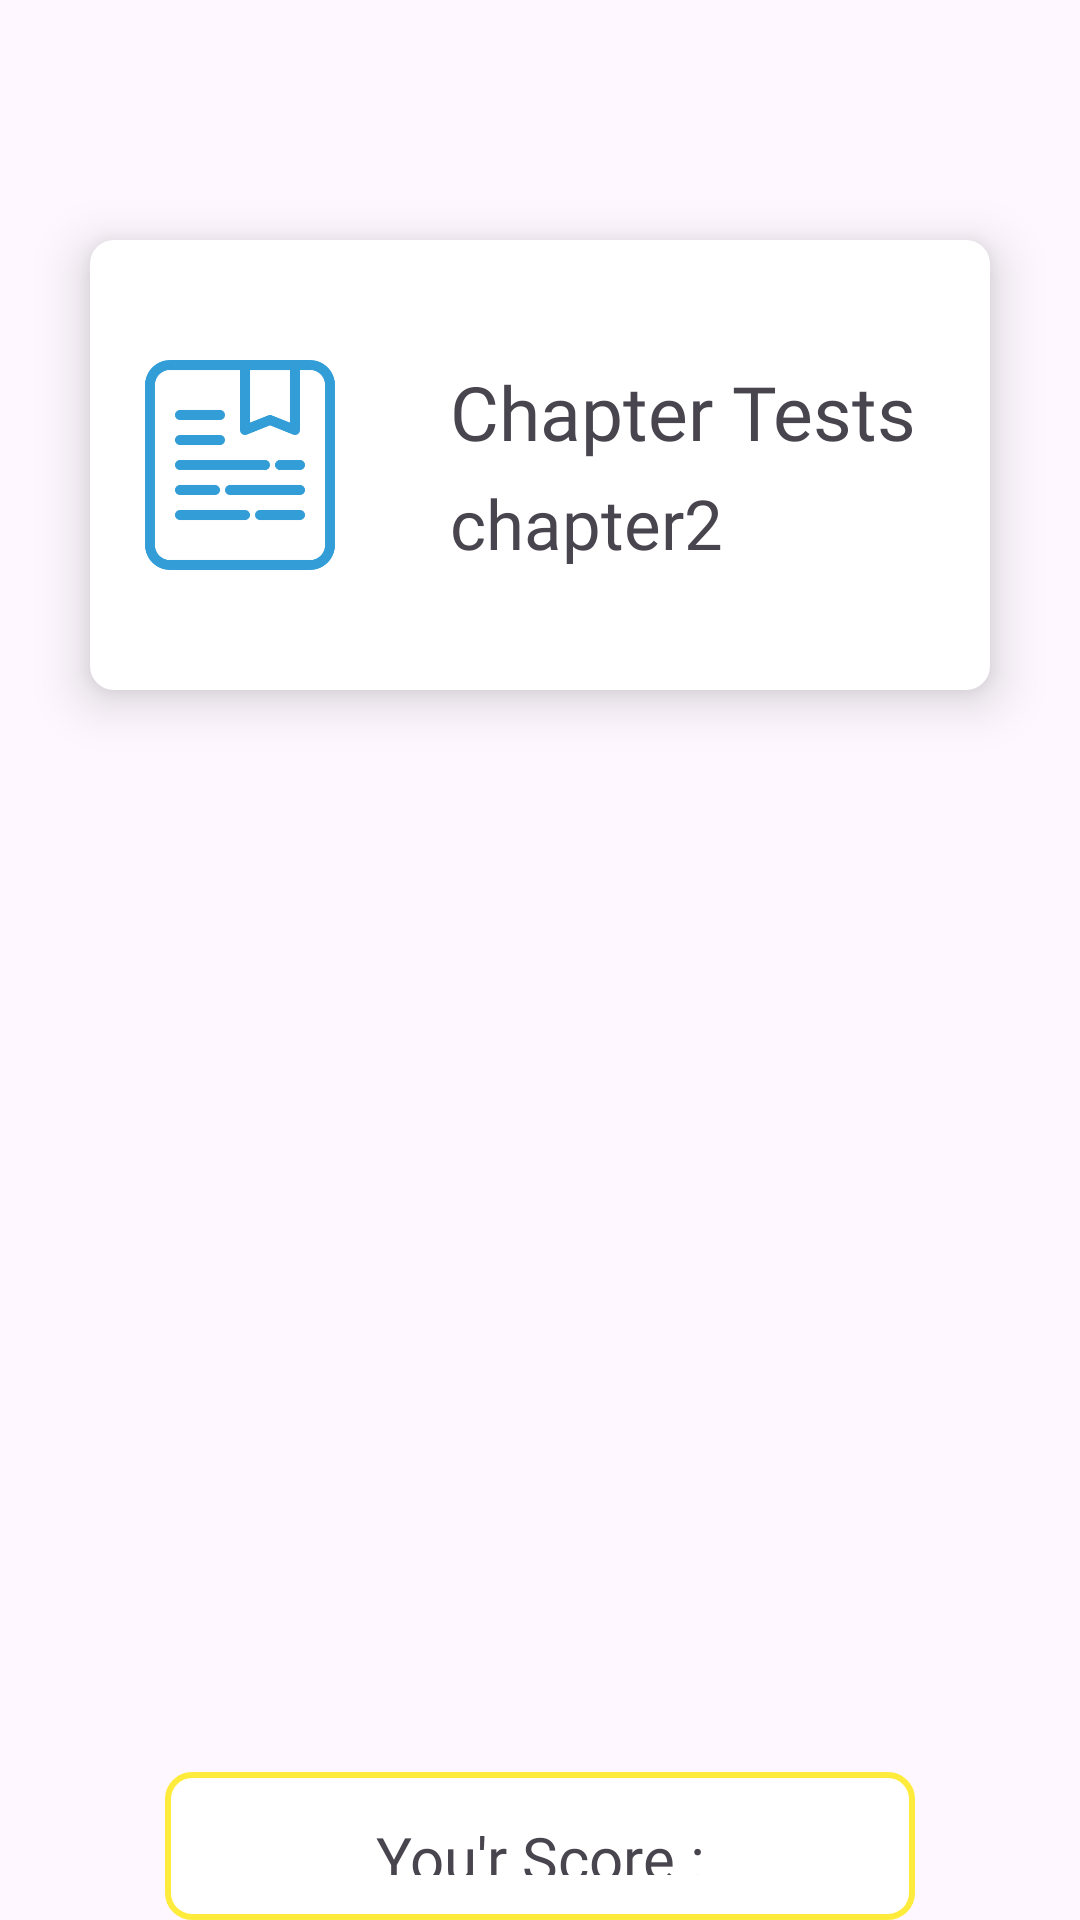

Named icons in this screenshot (1080w x 1920h) and their centers, (x,y):
bookmark: (240,465)
